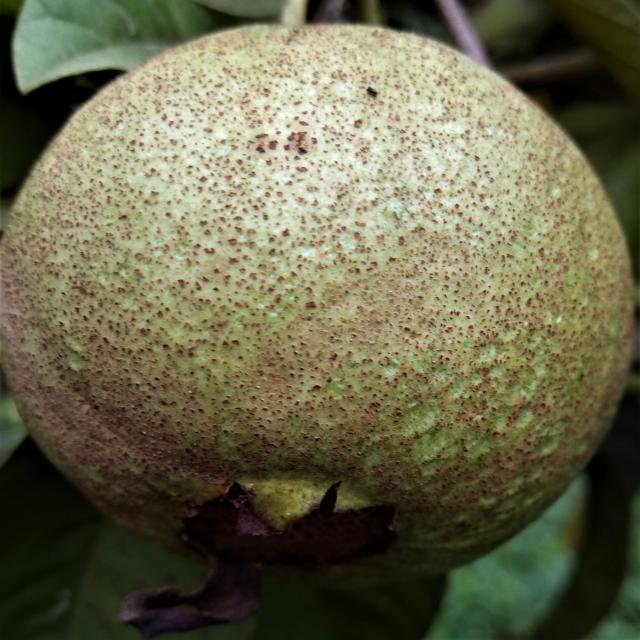Scab: (3, 25, 632, 580)
